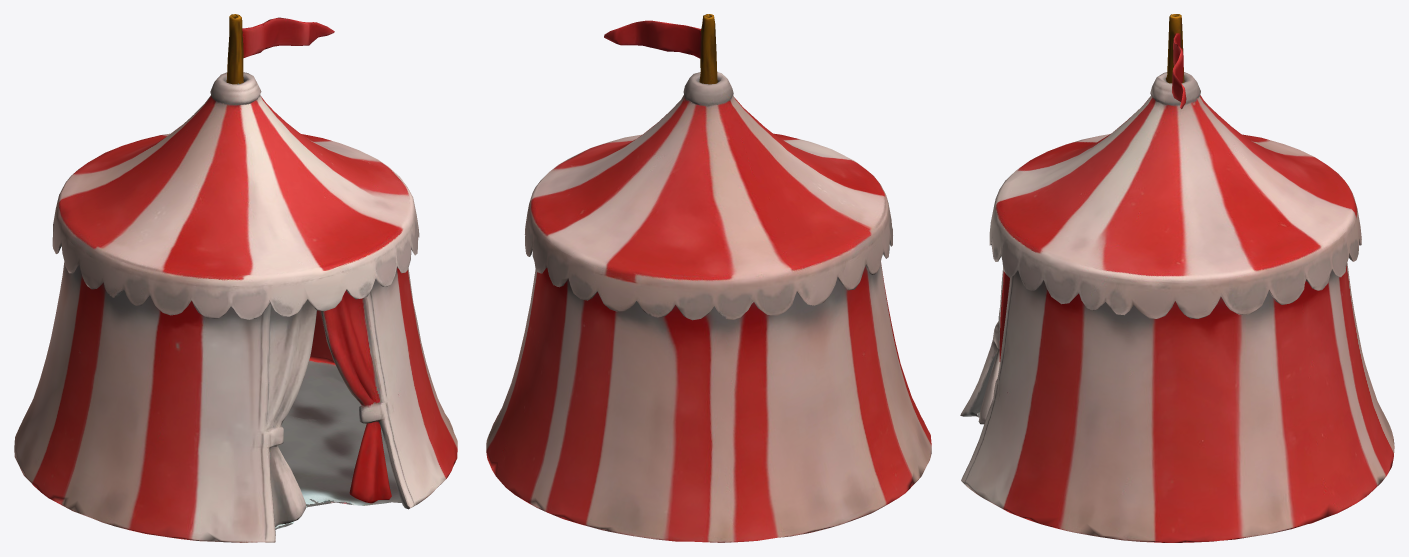
The model's file is tent.glb.
3 views of the same model, side by side, from view 1: azimuth 30°, elevation 25°; view 2: azimuth 150°, elevation 25°; view 3: azimuth 270°, elevation 25° (orthographic).
Parts seen in each view (by area): view 1: world; view 2: world; view 3: world.
Boxes of the visible parts, x1,y1,x2,y2 form: world: (14, 14, 457, 542); world: (486, 14, 931, 542); world: (960, 14, 1394, 542).
Bounding box in the file's own units: 0.9347 × 1 × 0.9098.
Materials: 1 (1 with a texture image).
